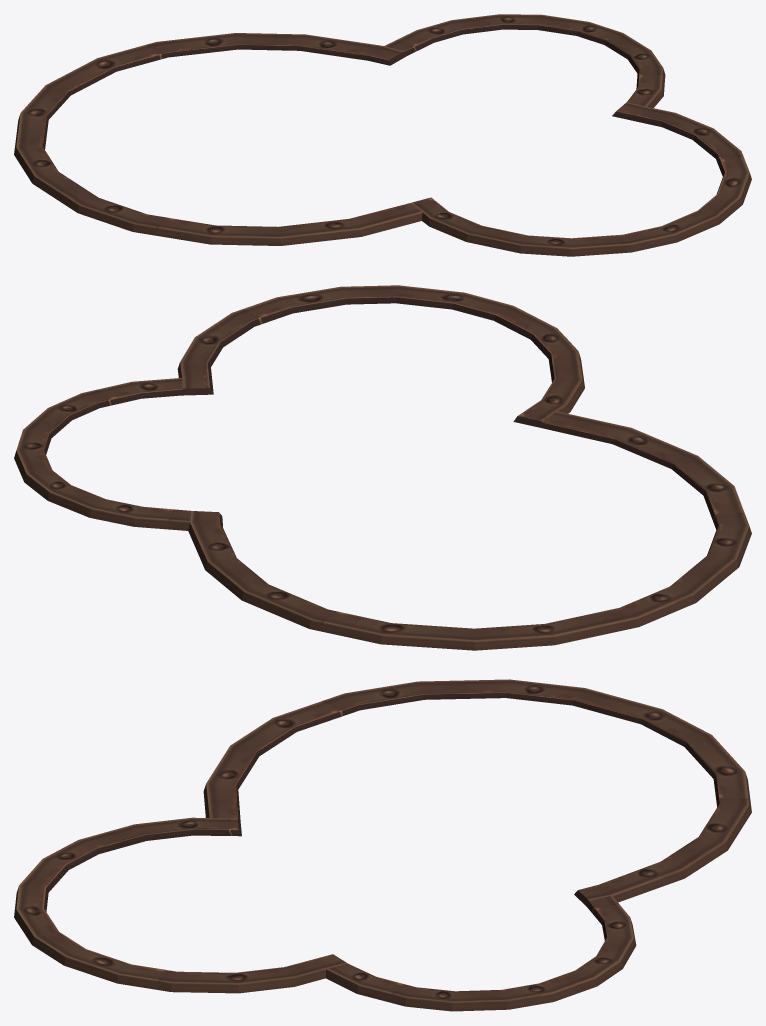
The model's file is sn_jixie_chiluntaohuan_001.FBX.
3 renders of one model, top to bottom at view 1: azimuth 30°, elevation 25°; view 2: azimuth 150°, elevation 25°; view 3: azimuth 270°, elevation 25°, orthographic. The views are drawn at different scales.
Parts seen in each view (by area): view 1: sn_jixie_chiluntaohuan_001; view 2: sn_jixie_chiluntaohuan_001; view 3: sn_jixie_chiluntaohuan_001.
Part boxes in pixels (<box>): sn_jixie_chiluntaohuan_001: <box>14,14,751,256</box>; sn_jixie_chiluntaohuan_001: <box>14,285,751,650</box>; sn_jixie_chiluntaohuan_001: <box>14,679,751,1011</box>.
Size of the model in its own units: 34.6 by 33.19 by 0.3993.
